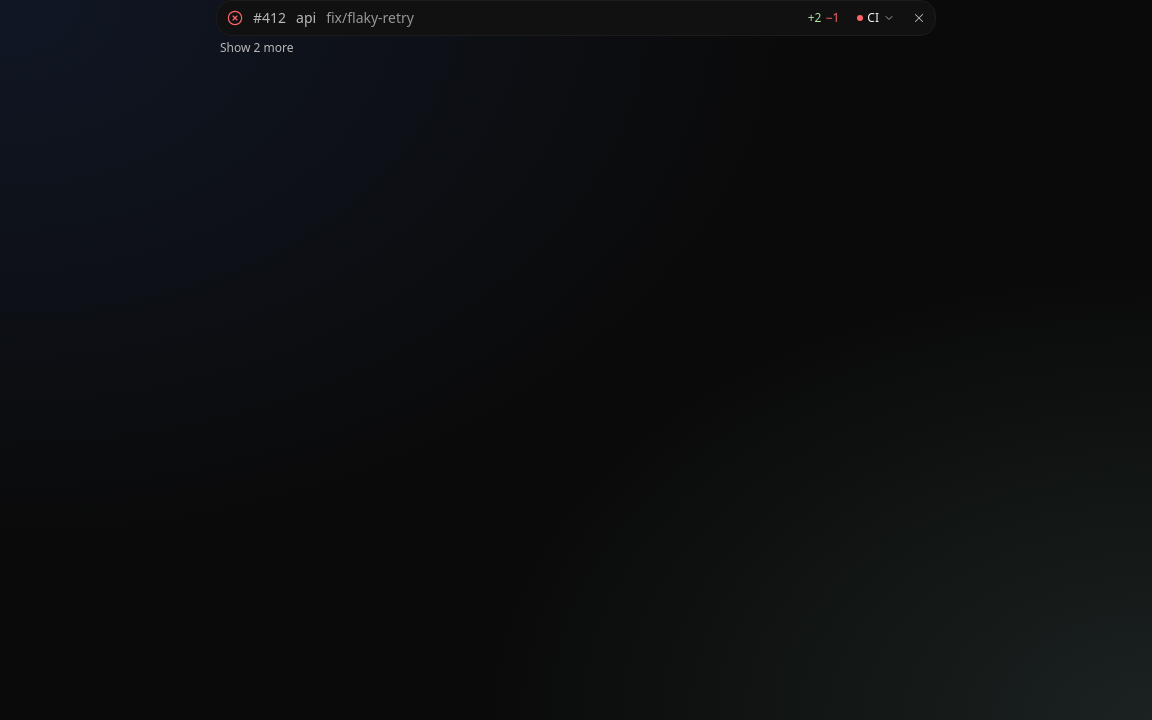
Test: PrStrip › starts folded, and remembers unfolding per thread
This screenshot has width=1152, height=720.
Expected: the element with test id "pr-row" shows "#412", [216,0,936,36]
Click the button "Show 2 more": (257, 48) [216,40,298,56]
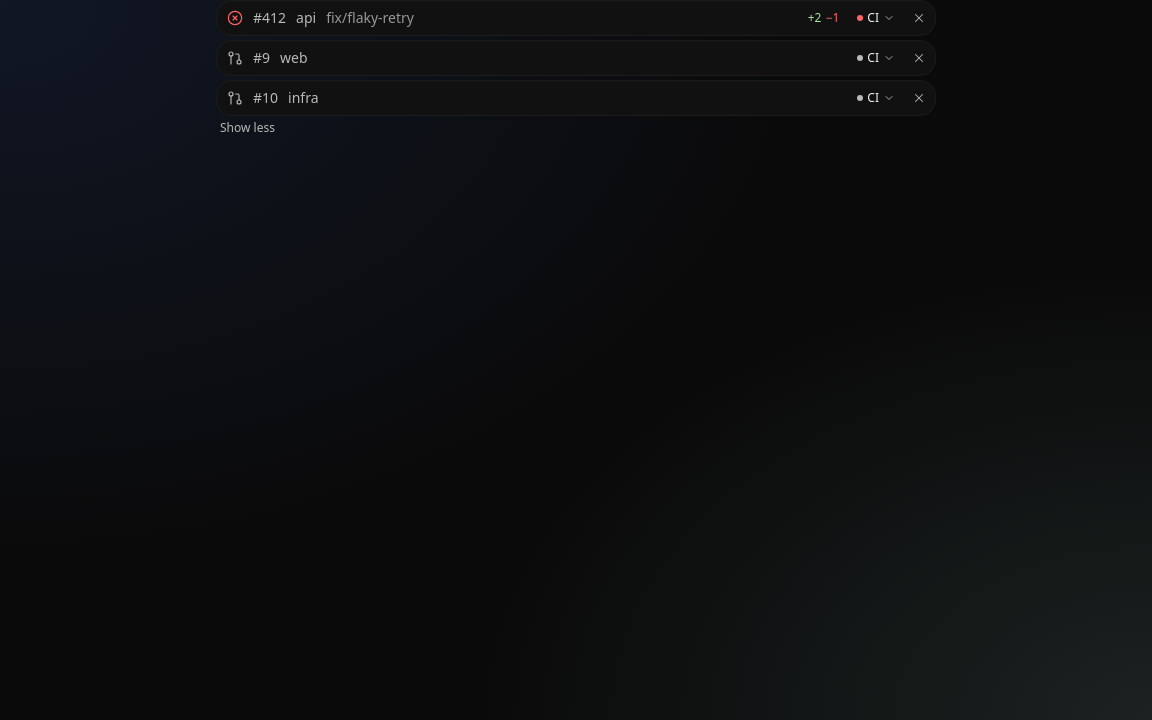
Expected: the number of elements with test id "pr-row-extra" is 2, [216,40,936,76]; [216,80,936,116]
Click the button "Show less": (247, 128) [216,120,279,136]
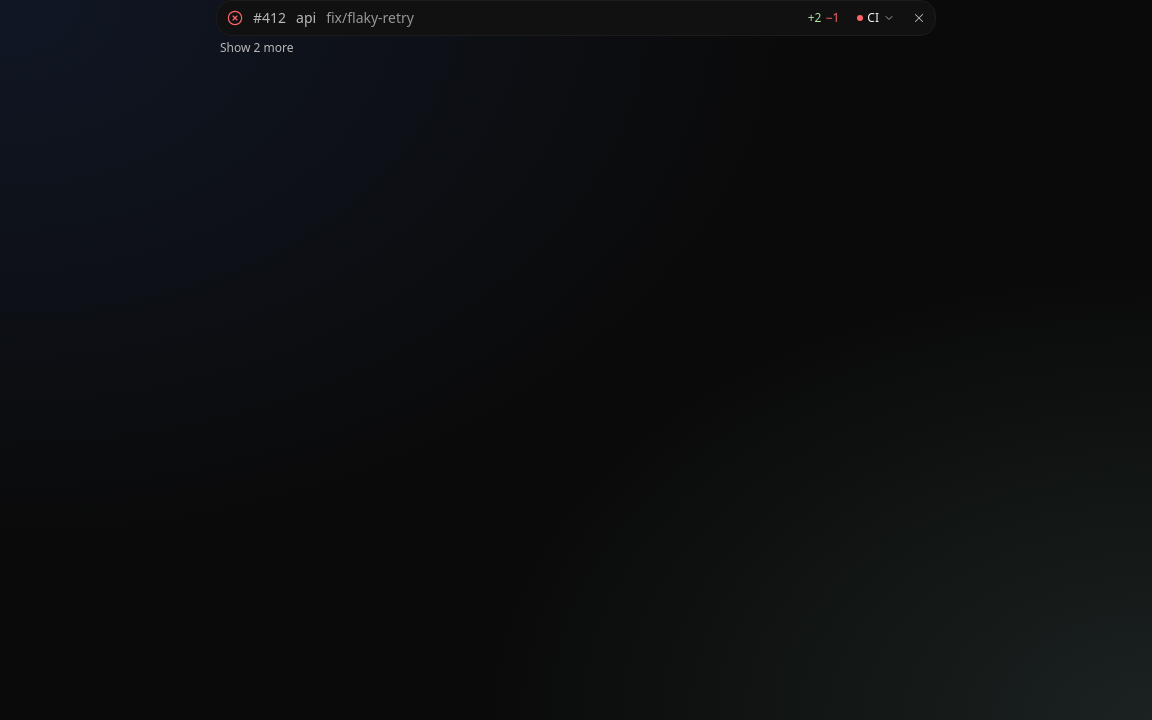
Expected: no elements with test id "pr-row-extra" are shown
